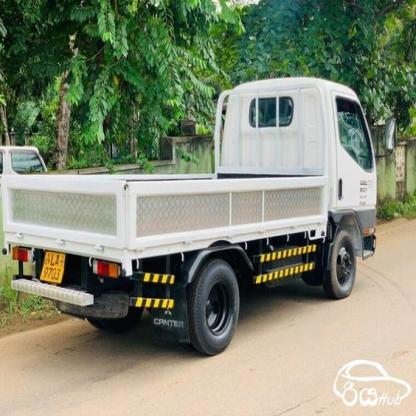Lorry back: (0, 56, 408, 364)
number plate: (38, 248, 68, 286)
